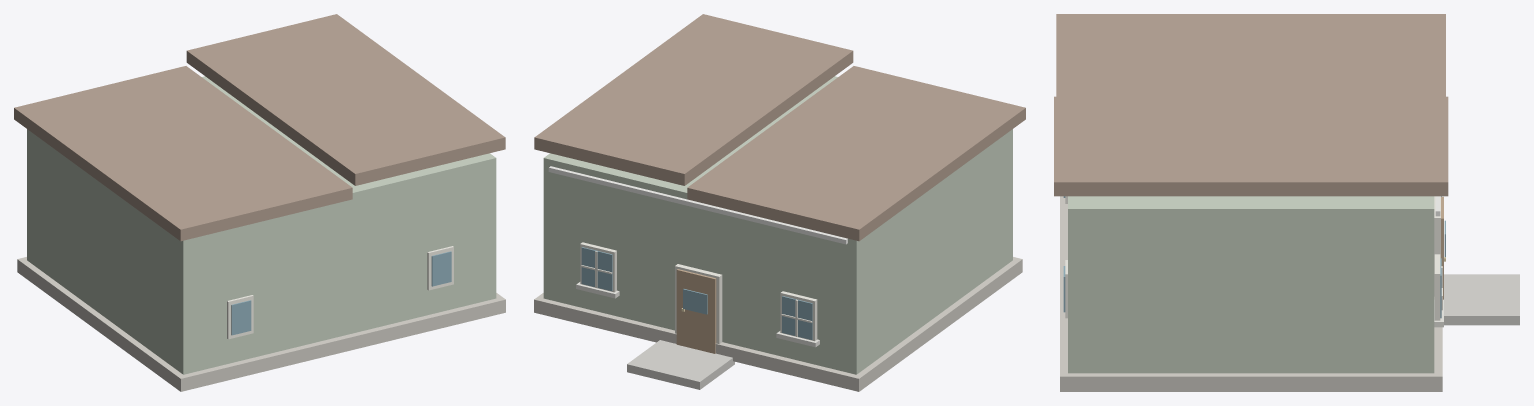
File: House_SplitLevel.glb
3 renders of one model, left to right at view 1: azimuth 30°, elevation 25°; view 2: azimuth 150°, elevation 25°; view 3: azimuth 270°, elevation 25°, orthographic. The views are drawn at different scales.
Parts seen in each view (by area): view 1: 001_exterior_001, 002_flat_roof_002, 003_roof_stepped_003, 000_foundation_000, 021_rear_glass_021, 023_rear_glass_023, 020_rear_window_020, 022_rear_window_022; view 2: 001_exterior_001, 002_flat_roof_002, 003_roof_stepped_003, 000_foundation_000, 019_stoop_019, 016_door_016, 004_fascia_004, 011_window_glass_011, 006_window_glass_006, 015_door_trim_015, 005_window_trim_005, 018_door_glazing_018 (+1 smaller); view 3: 001_exterior_001, 003_roof_stepped_003, 002_flat_roof_002, 000_foundation_000, 019_stoop_019, 010_window_trim_010.
Boxes of the visible parts, left/top/right/bottom form: 001_exterior_001: left=27, top=76, right=496, bottom=374; 002_flat_roof_002: left=14, top=66, right=352, bottom=241; 003_roof_stepped_003: left=186, top=14, right=505, bottom=185; 000_foundation_000: left=17, top=257, right=505, bottom=391; 021_rear_glass_021: left=231, top=300, right=251, bottom=335; 023_rear_glass_023: left=431, top=251, right=451, bottom=286; 020_rear_window_020: left=227, top=295, right=253, bottom=339; 022_rear_window_022: left=427, top=246, right=453, bottom=290; 001_exterior_001: left=543, top=76, right=1012, bottom=374; 002_flat_roof_002: left=687, top=66, right=1025, bottom=241; 003_roof_stepped_003: left=534, top=14, right=853, bottom=185; 000_foundation_000: left=534, top=257, right=1022, bottom=391; 019_stoop_019: left=627, top=340, right=734, bottom=389; 016_door_016: left=676, top=269, right=716, bottom=353; 004_fascia_004: left=548, top=166, right=847, bottom=244; 011_window_glass_011: left=581, top=247, right=612, bottom=291; 006_window_glass_006: left=782, top=296, right=812, bottom=339; 015_door_trim_015: left=675, top=264, right=722, bottom=343; 005_window_trim_005: left=780, top=291, right=817, bottom=341; 018_door_glazing_018: left=683, top=289, right=707, bottom=314; 001_exterior_001: left=1068, top=196, right=1434, bottom=373; 003_roof_stepped_003: left=1054, top=96, right=1448, bottom=196; 002_flat_roof_002: left=1056, top=14, right=1445, bottom=96; 000_foundation_000: left=1060, top=196, right=1442, bottom=391; 019_stoop_019: left=1444, top=274, right=1519, bottom=325; 010_window_trim_010: left=1434, top=254, right=1440, bottom=320.
Size of the model in its own units: 9.4 by 5.01 by 9.92.
